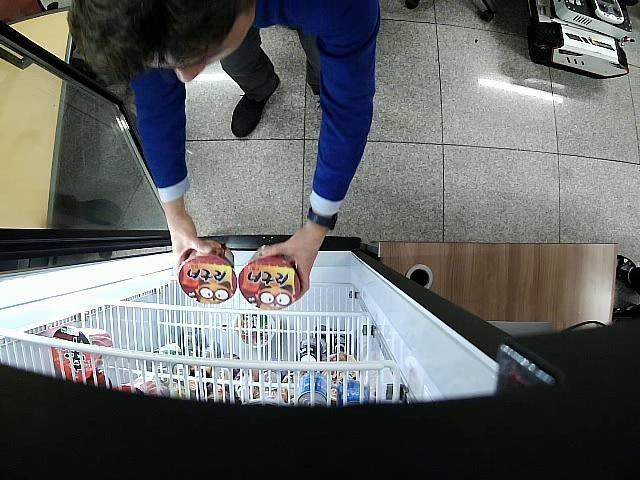05_nuguri_L: (177, 240, 237, 304), (238, 256, 302, 310)
